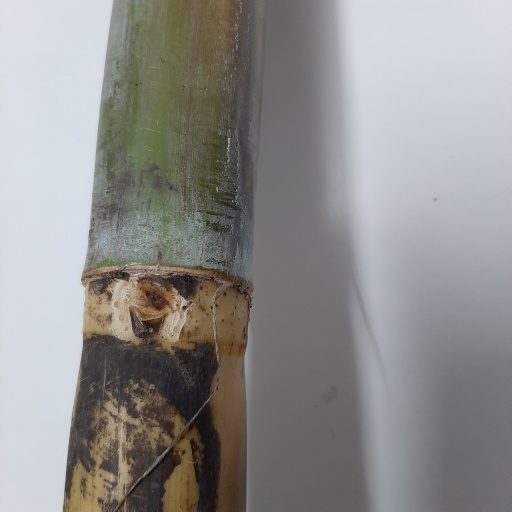Damage_Bud: (129, 274, 174, 339)
